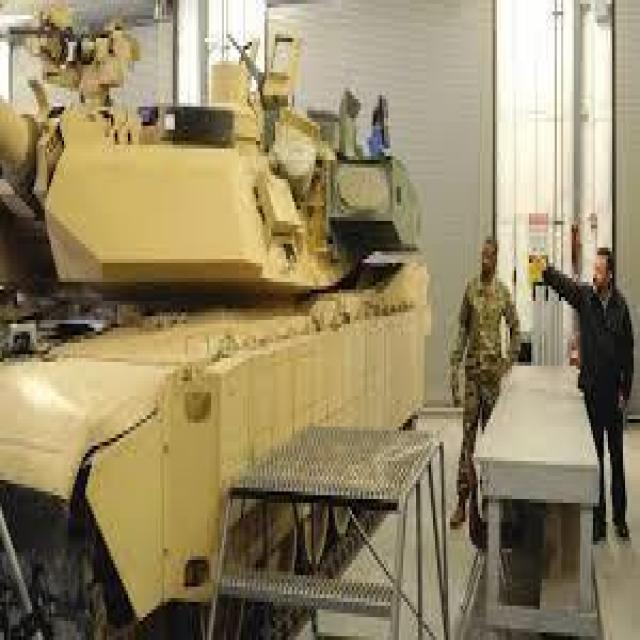Tanks: (9, 15, 458, 610)
